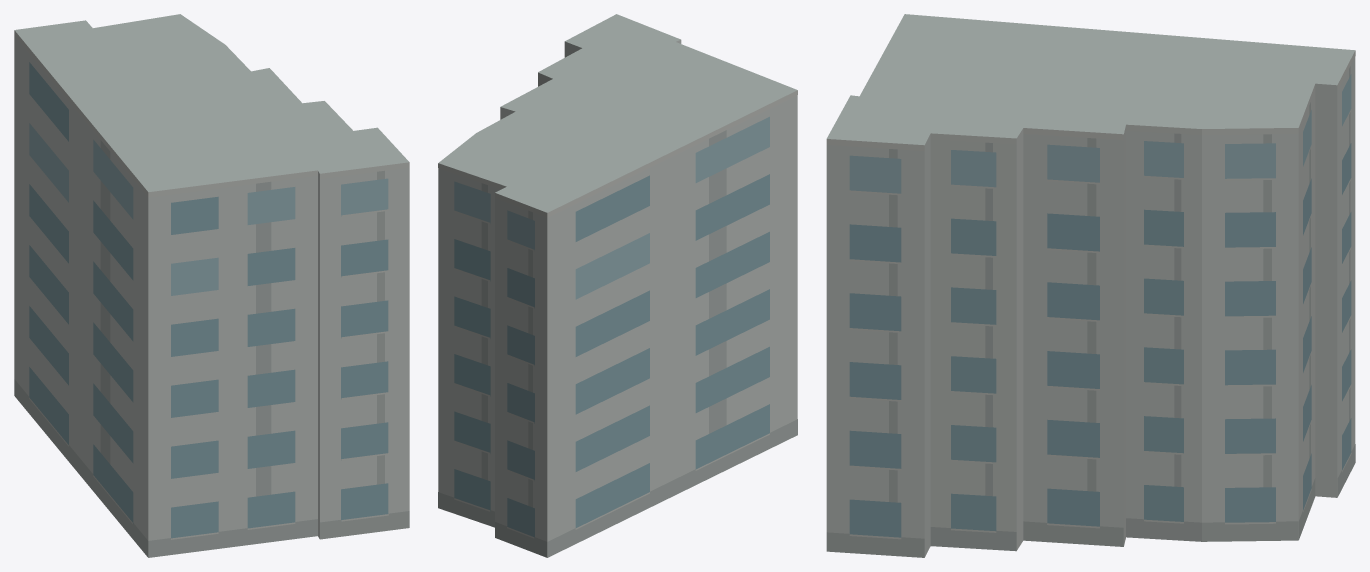
The model's file is survey-upis-32801153.glb.
3 renders of one model, left to right at view 1: azimuth 30°, elevation 25°; view 2: azimuth 150°, elevation 25°; view 3: azimuth 270°, elevation 25°, orthographic. The views are drawn at different scales.
Parts seen in each view (by area): view 1: survey-upis-32801153.tmp; view 2: survey-upis-32801153.tmp; view 3: survey-upis-32801153.tmp.
Boxes of the visible parts, x1,y1,x2,y2 form: survey-upis-32801153.tmp: [14, 14, 409, 557]; survey-upis-32801153.tmp: [438, 14, 797, 557]; survey-upis-32801153.tmp: [826, 14, 1355, 557].
Size of the model in its own units: 11.46 by 16.8 by 19.52.
